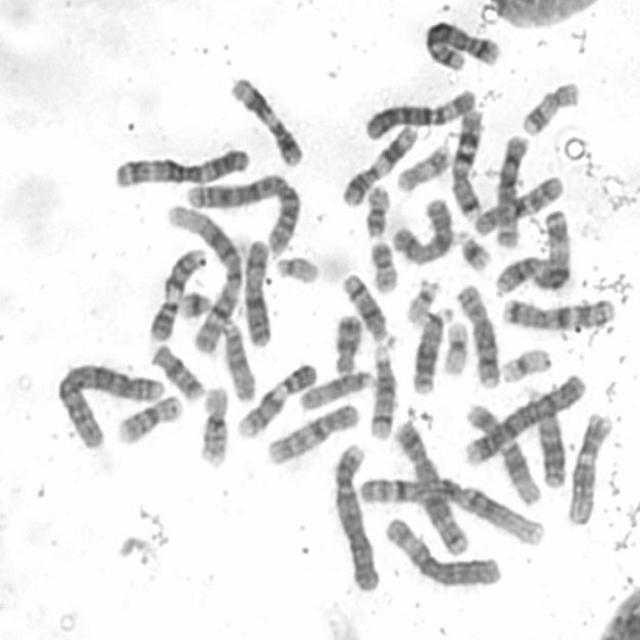A1: (353, 467, 549, 548), (160, 195, 247, 357)
A2: (178, 166, 304, 257), (50, 355, 167, 449)
A3: (488, 201, 576, 297), (107, 138, 253, 188)
B4: (457, 364, 590, 466), (328, 436, 383, 592)
B5: (388, 412, 470, 558), (418, 12, 503, 72)
C10: (260, 395, 362, 466), (468, 167, 566, 238)
C11: (224, 68, 304, 168), (335, 116, 420, 208)
C12: (459, 394, 543, 507), (560, 405, 614, 526)
C6: (378, 509, 503, 590), (357, 81, 480, 142)
C7: (496, 289, 618, 331), (445, 100, 486, 221)
C8: (450, 276, 503, 390), (490, 126, 532, 250)
C9: (230, 355, 320, 440), (143, 241, 209, 343)
D13: (520, 380, 568, 490), (405, 298, 456, 396)
D14: (335, 265, 396, 348), (362, 337, 398, 442)
D15: (293, 362, 377, 412), (216, 312, 258, 403)
E16: (110, 386, 186, 446), (192, 378, 232, 468)
E17: (515, 72, 582, 138), (390, 136, 454, 194)
E18: (145, 337, 206, 402), (326, 306, 364, 376)
F19: (494, 339, 553, 384), (437, 314, 471, 377)
F20: (358, 175, 393, 240), (365, 233, 400, 294)
G21: (451, 222, 493, 274), (172, 280, 215, 320)
G22: (399, 270, 443, 326), (270, 249, 322, 285)
X: (385, 189, 456, 267), (236, 232, 274, 349)
